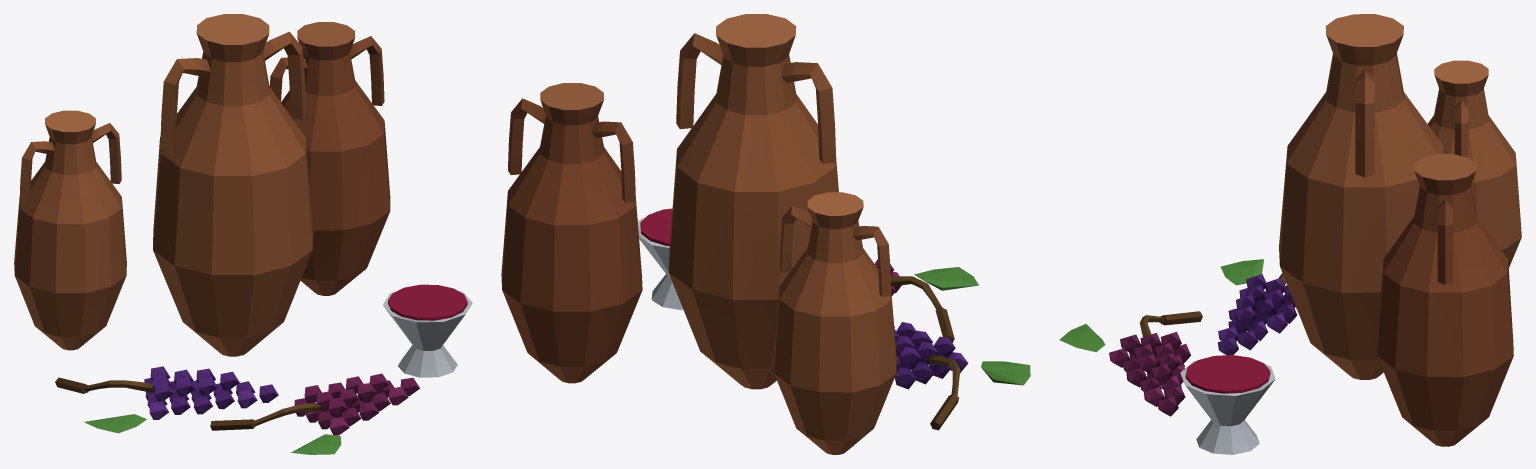
The picture shows the model from 3 angles, left to right: view 1: azimuth 30°, elevation 25°; view 2: azimuth 150°, elevation 25°; view 3: azimuth 270°, elevation 25°; orthographic projection. The views are drawn at different scales.
Parts seen in each view (by area): view 1: base; view 2: base; view 3: base.
Part boxes in pixels (x1,y1,x2,y2): base: (14,14,472,454); base: (501,14,1030,454); base: (1059,14,1521,454).
Size of the model in its own units: 0.5914 by 0.47 by 0.5748.
